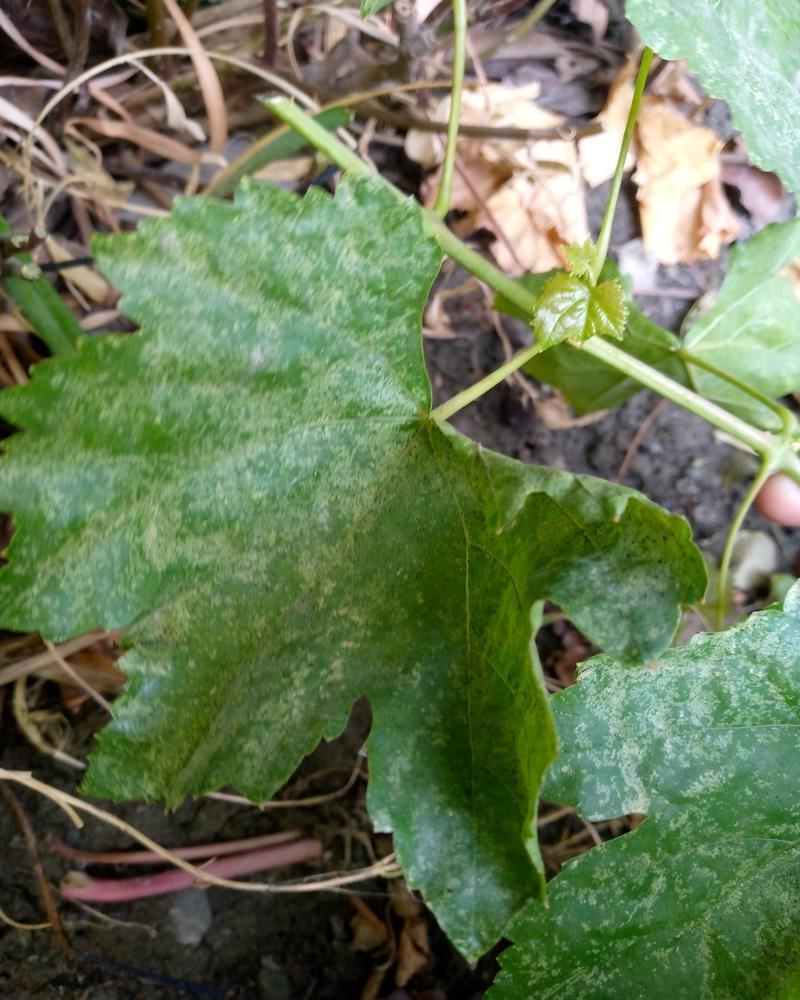Powdery-Mildew: (138, 184, 423, 358), (259, 354, 418, 513), (101, 437, 260, 596), (122, 629, 281, 788), (0, 482, 103, 641)
